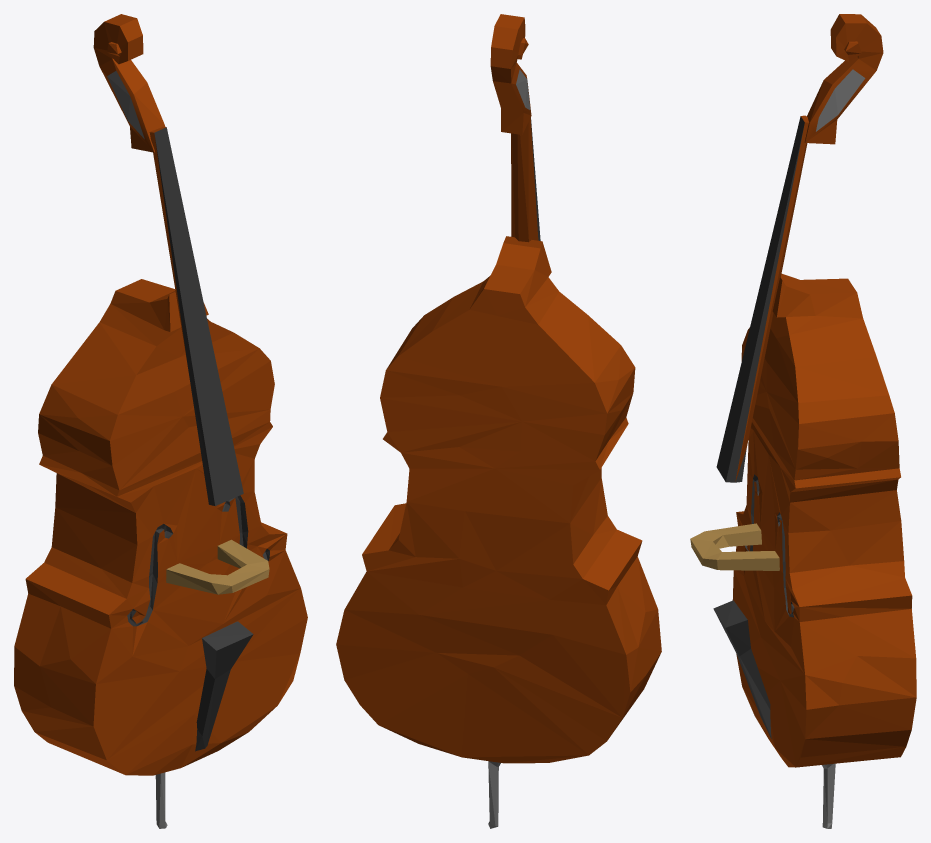
File: o3_contrabbasso.glb
3 views of the same model, side by side, from view 1: azimuth 30°, elevation 25°; view 2: azimuth 150°, elevation 25°; view 3: azimuth 270°, elevation 25° (orthographic). The views are drawn at different scales.
Parts seen in each view (by area): view 1: sb_modello; view 2: sb_modello; view 3: sb_modello.
Boxes of the visible parts, left/top/right/bottom form: sb_modello: left=14, top=14, right=307, bottom=828; sb_modello: left=336, top=14, right=661, bottom=828; sb_modello: left=690, top=14, right=916, bottom=828.
Bounding box in the file's own units: 0.476 × 1.33 × 0.3423.
